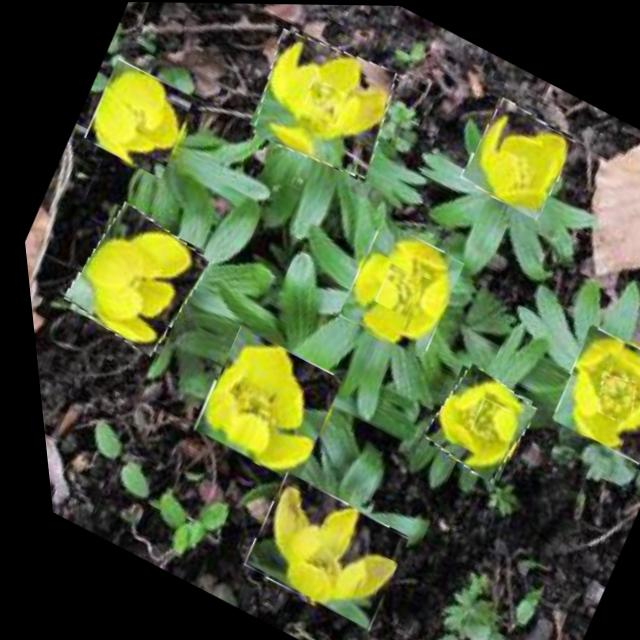Flower: (222, 471, 406, 633), (233, 20, 411, 186), (175, 324, 344, 486), (48, 198, 214, 362), (323, 218, 466, 360), (406, 359, 536, 486), (450, 94, 580, 221), (73, 57, 202, 181), (533, 321, 640, 465), (577, 367, 636, 425), (364, 263, 420, 319), (294, 77, 348, 127), (455, 396, 504, 446)
